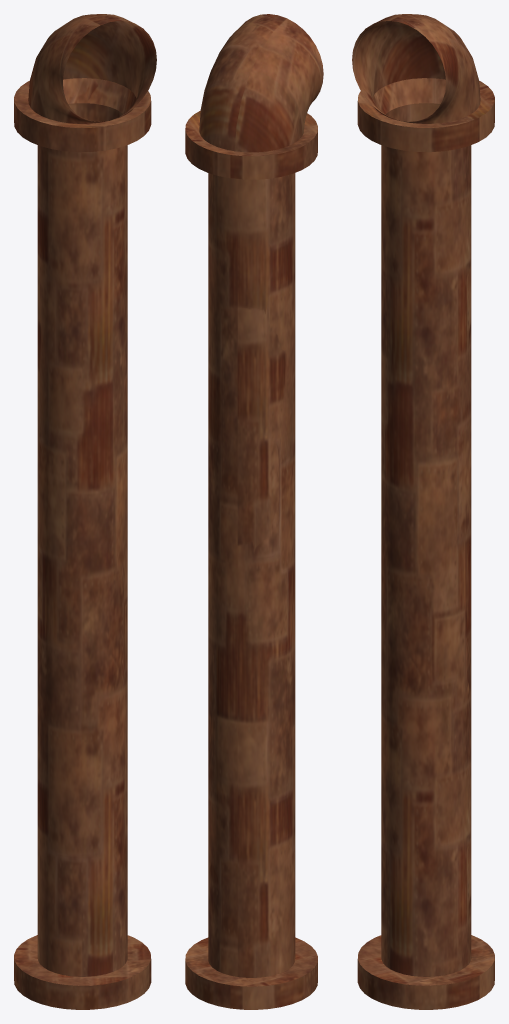
Rendered from Tuberia 2.fbx.
3 renders of one model, left to right at view 1: azimuth 30°, elevation 25°; view 2: azimuth 150°, elevation 25°; view 3: azimuth 330°, elevation 25°, orthographic. The views are drawn at different scales.
Parts seen in each view (by area): view 1: Cylinder.005; view 2: Cylinder.005; view 3: Cylinder.005.
Boxes of the visible parts, box(x1,y1,x2,y2) form: Cylinder.005: box(14, 14, 156, 1009); Cylinder.005: box(185, 14, 323, 1009); Cylinder.005: box(352, 14, 494, 1009).
Bounding box in the file's own units: 13.41 × 105 × 13.41.
